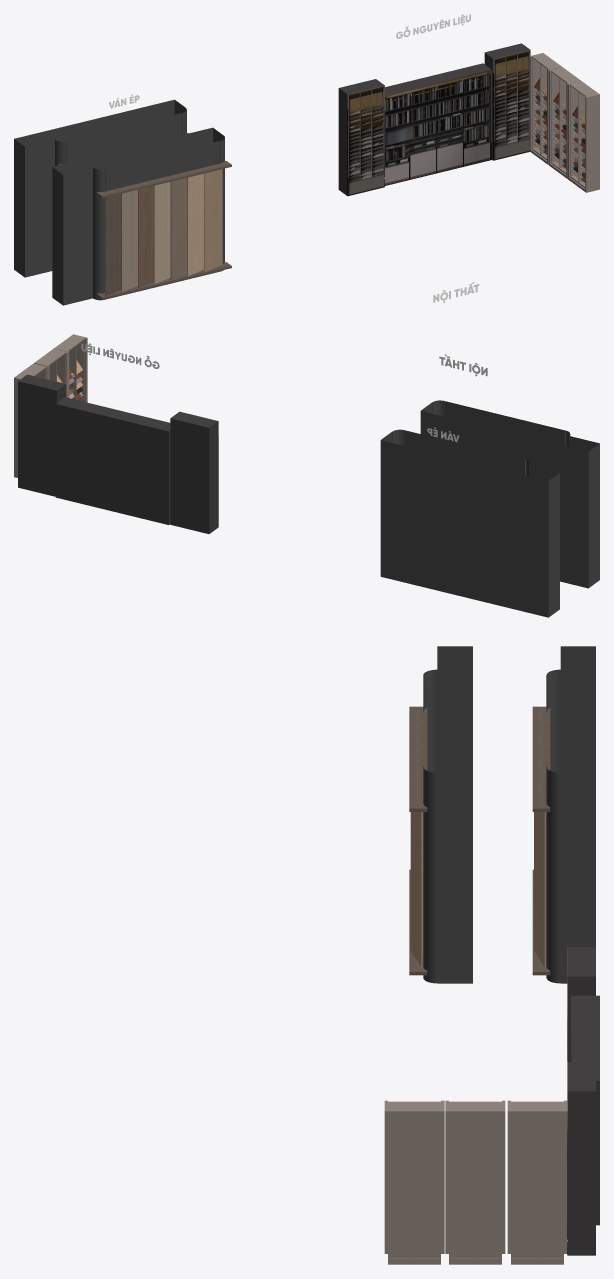
The model's file is wood_L3.glb.
3 views of the same model, one above another, from view 1: azimuth 30°, elevation 25°; view 2: azimuth 150°, elevation 25°; view 3: azimuth 270°, elevation 25° (orthographic). The views are drawn at different scales.
Parts seen in each view (by area): view 1: _l3_shelf.004, _l3_shelf.002, _l3_shelf, _l3_shelf.003, _l3_text; view 2: _l3_shelf, _l3_shelf.002, _l3_shelf.004, _l3_shelf.003, _l3_text; view 3: _l3_shelf.003, _l3_shelf.004, _l3_shelf, _l3_shelf.002.
Part boxes in pixels (left/top/right/bottom): _l3_shelf.004: left=52, top=127, right=231, bottom=305; _l3_shelf.002: left=338, top=43, right=530, bottom=196; _l3_shelf: left=14, top=99, right=188, bottom=277; _l3_shelf.003: left=529, top=53, right=599, bottom=192; _l3_text: left=396, top=14, right=470, bottom=38; _l3_shelf: left=380, top=429, right=559, bottom=617; _l3_shelf.002: left=18, top=374, right=218, bottom=533; _l3_shelf.004: left=420, top=400, right=599, bottom=588; _l3_shelf.003: left=14, top=334, right=87, bottom=477; _l3_text: left=81, top=343, right=159, bottom=368; _l3_shelf.003: left=384, top=1100, right=567, bottom=1264; _l3_shelf.004: left=409, top=646, right=472, bottom=983; _l3_shelf: left=532, top=646, right=595, bottom=983; _l3_shelf.002: left=567, top=947, right=599, bottom=1255.
Size of the model in its own units: 12.71 by 3.55 by 7.69.
38 materials, 28 textured.
